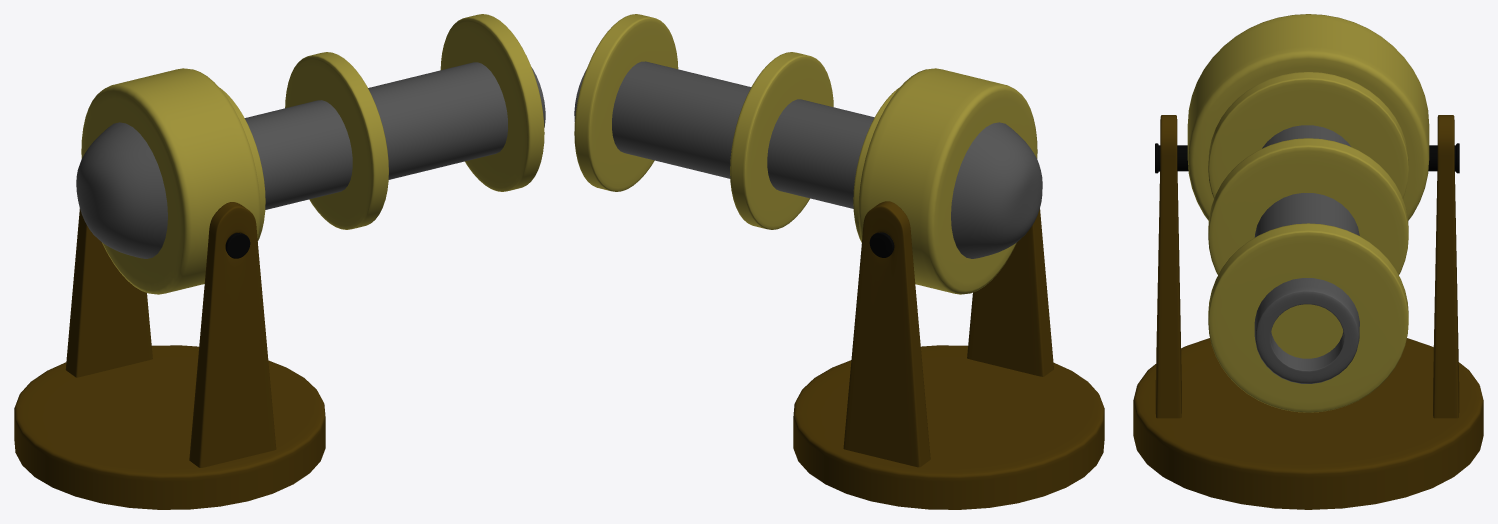
File: canon_v1_ydays.fbx
The picture shows the model from 3 angles, left to right: view 1: azimuth 30°, elevation 25°; view 2: azimuth 150°, elevation 25°; view 3: azimuth 270°, elevation 25°; orthographic projection. The views are drawn at different scales.
Parts seen in each view (by area): view 1: canon; view 2: canon; view 3: canon.
Part boxes in pixels (box(x1,y1,x2,y2)): canon: box(14, 14, 545, 509); canon: box(574, 14, 1104, 509); canon: box(1133, 14, 1483, 509).
Size of the model in its own units: 6.5 by 4.58 by 3.6.
